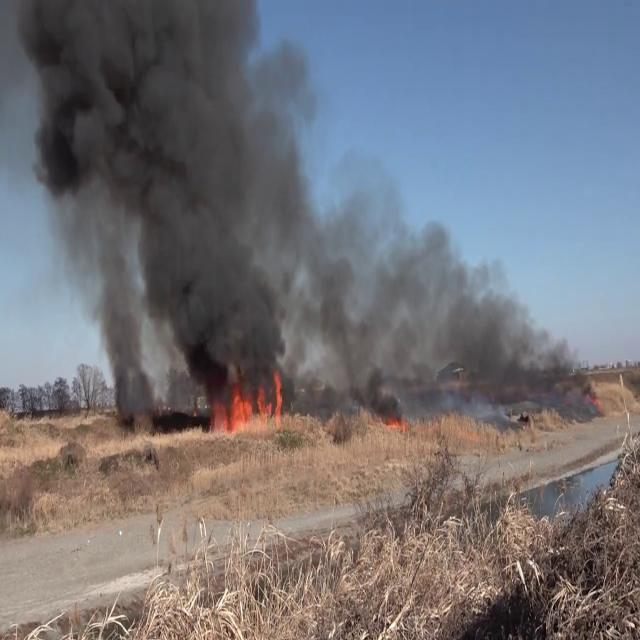Fire: (215, 362, 288, 434)
Smoke: (2, 0, 318, 404), (303, 201, 593, 411)
